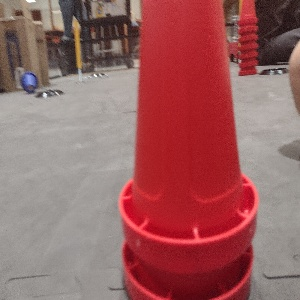Blue_1: (18, 70, 39, 93)
Red_2: (118, 0, 259, 299), (119, 147, 126, 149)
